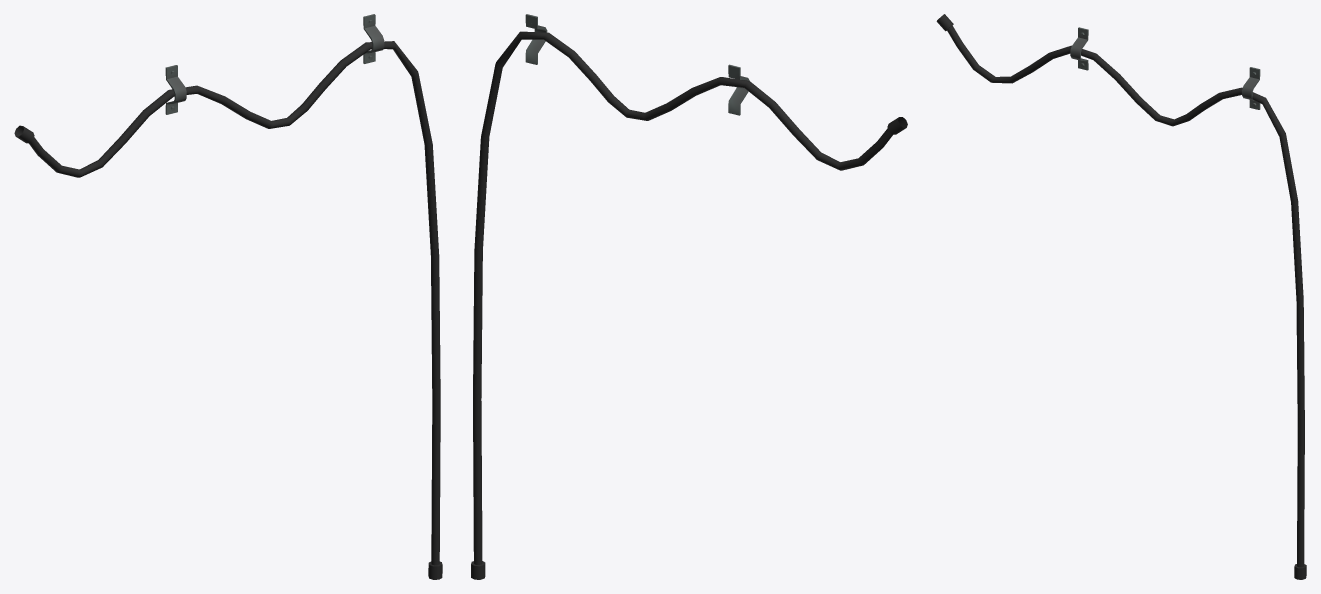
File: Env_Wires_02.fbx
The picture shows the model from 3 angles, left to right: view 1: azimuth 30°, elevation 25°; view 2: azimuth 150°, elevation 25°; view 3: azimuth 330°, elevation 25°; orthographic projection. The views are drawn at different scales.
Parts seen in each view (by area): view 1: Env_Wires_02; view 2: Env_Wires_02; view 3: Env_Wires_02.
Boxes of the visible parts, <box> form: Env_Wires_02: <box>14,14,442,579</box>; Env_Wires_02: <box>471,14,907,579</box>; Env_Wires_02: <box>936,14,1306,579</box>.
Size of the model in its own units: 66.38 by 84.86 by 3.
